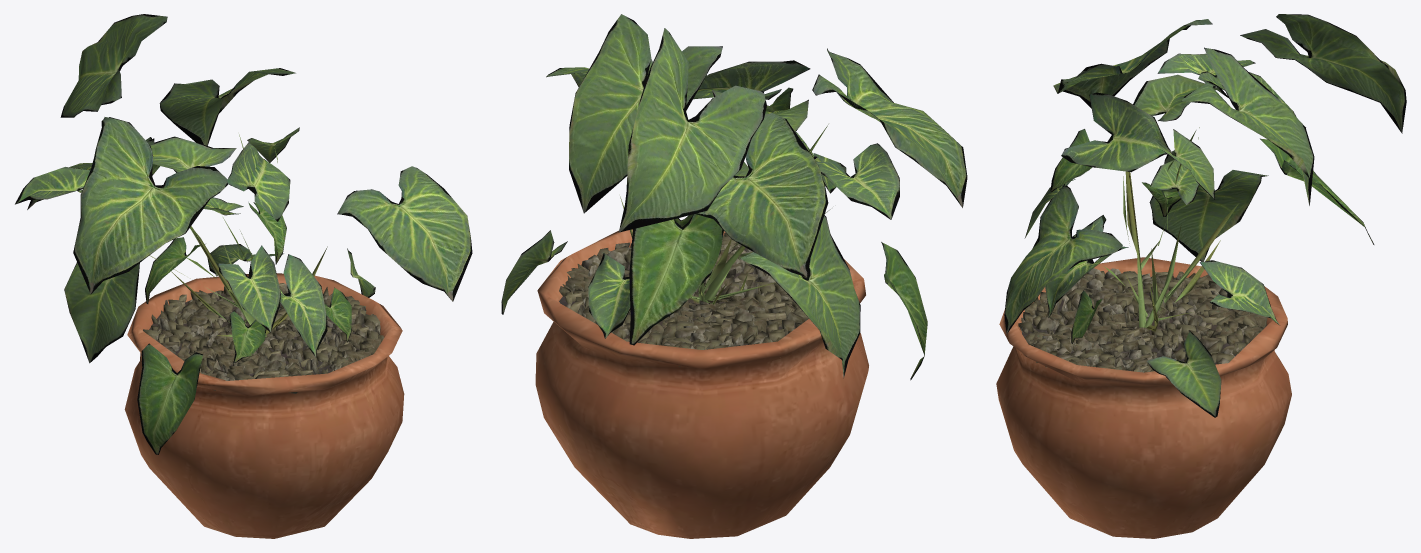
File: potted_plant_02.glb
3 renders of one model, left to right at view 1: azimuth 30°, elevation 25°; view 2: azimuth 150°, elevation 25°; view 3: azimuth 270°, elevation 25°, orthographic. The views are drawn at different scales.
Visible parts, largest first — view 1: potted_plant_02_leaves, potted_plant_02_pot, potted_plant_02_dirt; view 2: potted_plant_02_leaves, potted_plant_02_pot, potted_plant_02_dirt; view 3: potted_plant_02_leaves, potted_plant_02_pot, potted_plant_02_dirt.
Boxes of the visible parts, x1=… form: potted_plant_02_leaves: x1=15, y1=14, x2=472, y2=454; potted_plant_02_pot: x1=124, y1=273, x2=404, y2=538; potted_plant_02_dirt: x1=143, y1=283, x2=384, y2=393; potted_plant_02_leaves: x1=501, y1=14, x2=967, y2=380; potted_plant_02_pot: x1=535, y1=229, x2=868, y2=538; potted_plant_02_dirt: x1=559, y1=232, x2=808, y2=366; potted_plant_02_leaves: x1=1004, y1=14, x2=1406, y2=417; potted_plant_02_pot: x1=996, y1=257, x2=1291, y2=538; potted_plant_02_dirt: x1=1018, y1=268, x2=1267, y2=372.
Size of the model in its own units: 0.7009 by 0.8395 by 0.6561.
Materials: 2 (2 with a texture image).
